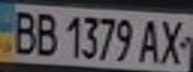1: (60, 11, 84, 58)
3: (78, 12, 100, 60)
7: (97, 14, 118, 61)
9: (115, 15, 139, 63)
A: (136, 16, 163, 64)
B: (6, 7, 42, 56), (30, 9, 60, 57)
X: (157, 16, 190, 65)
